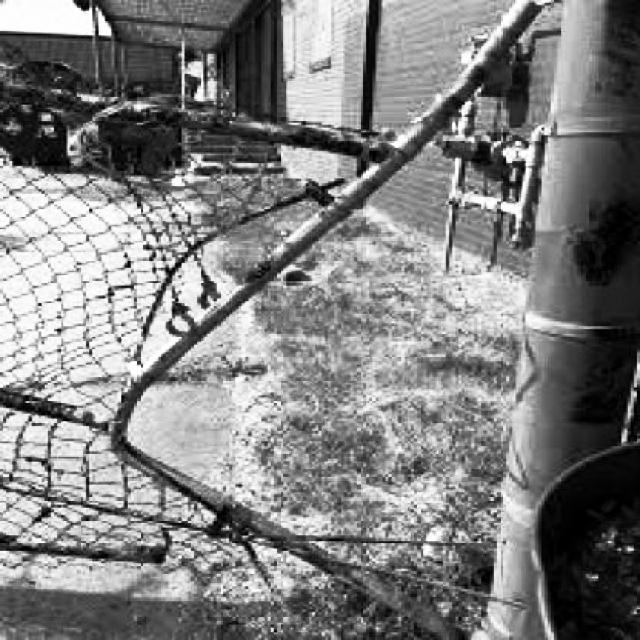anomaly-fence: (0, 27, 532, 632)
